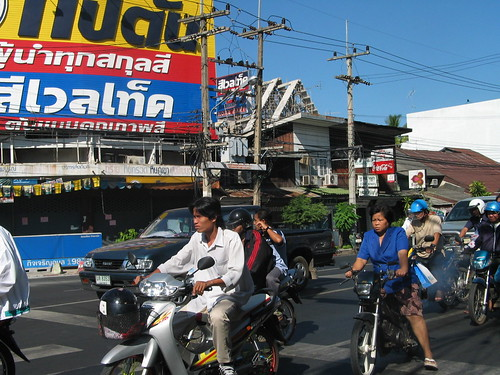helmet: (227, 206, 251, 227), (406, 196, 431, 213), (463, 191, 482, 212), (485, 198, 498, 212)
